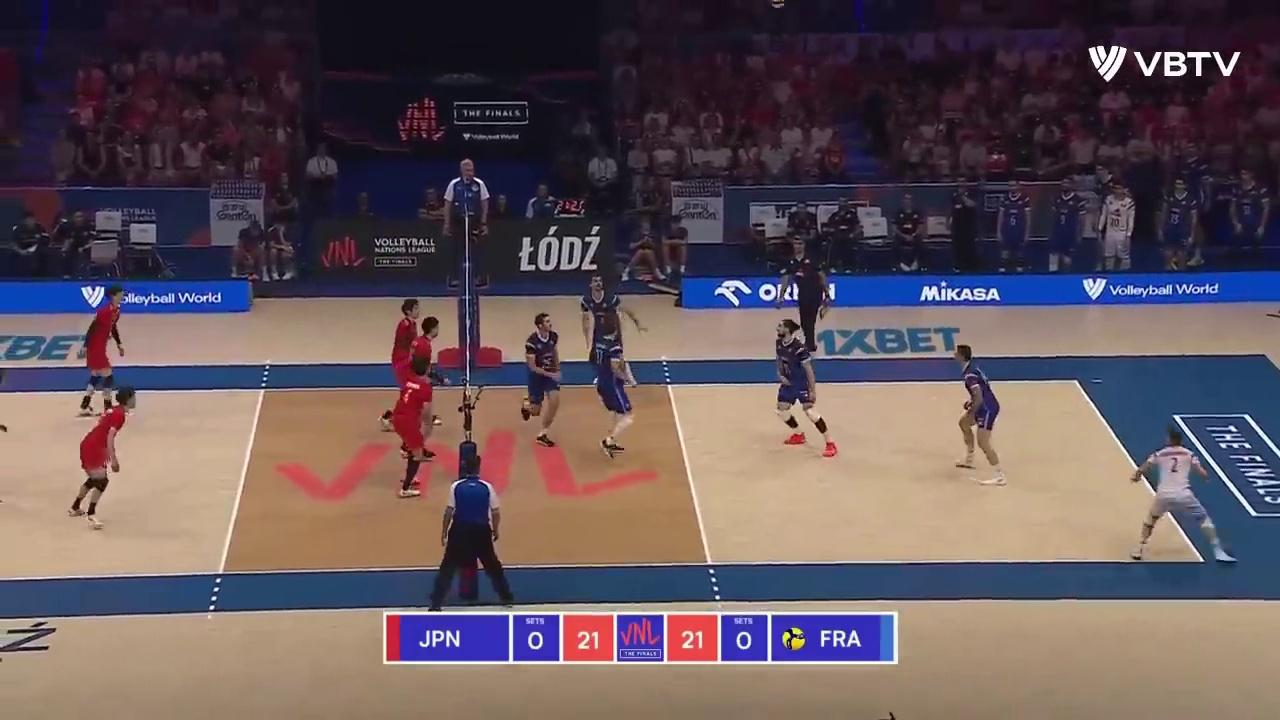ball: (769, 0, 782, 8)
